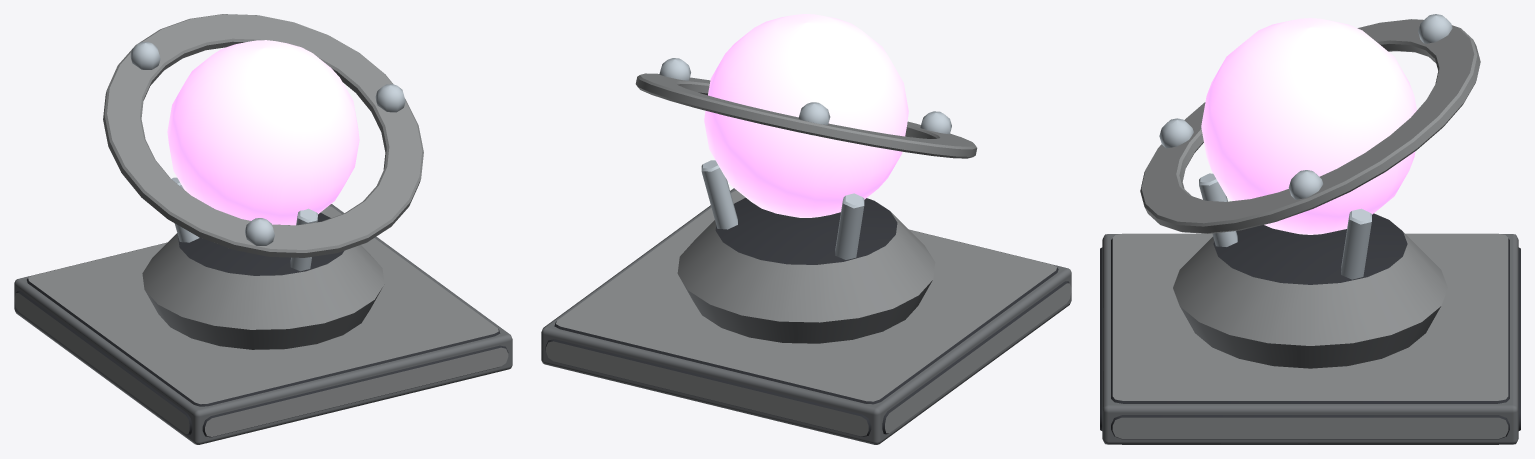
Rendered from R4X_OrbAmplifier.glb.
3 renders of one model, left to right at view 1: azimuth 30°, elevation 25°; view 2: azimuth 150°, elevation 25°; view 3: azimuth 270°, elevation 25°, orthographic. The views are drawn at different scales.
Visible parts, largest first — view 1: R4X_OrbAmplifier_Body, R4X_OrbAmplifier_Ring; view 2: R4X_OrbAmplifier_Body, R4X_OrbAmplifier_Ring; view 3: R4X_OrbAmplifier_Body, R4X_OrbAmplifier_Ring.
Boxes of the visible parts, x1,y1,x2,y2 form: R4X_OrbAmplifier_Body: (14, 40, 512, 444); R4X_OrbAmplifier_Ring: (103, 14, 423, 257); R4X_OrbAmplifier_Body: (541, 14, 1071, 444); R4X_OrbAmplifier_Ring: (635, 58, 977, 158); R4X_OrbAmplifier_Body: (1100, 18, 1520, 444); R4X_OrbAmplifier_Ring: (1140, 14, 1480, 233).
Size of the model in its own units: 0.52 by 0.455 by 0.52.
